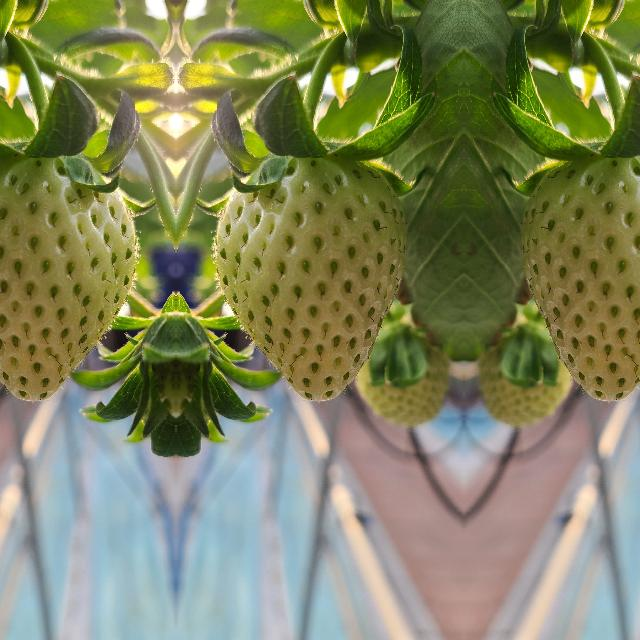Health_25: (210, 158, 410, 404), (0, 157, 140, 404), (515, 157, 640, 404)
